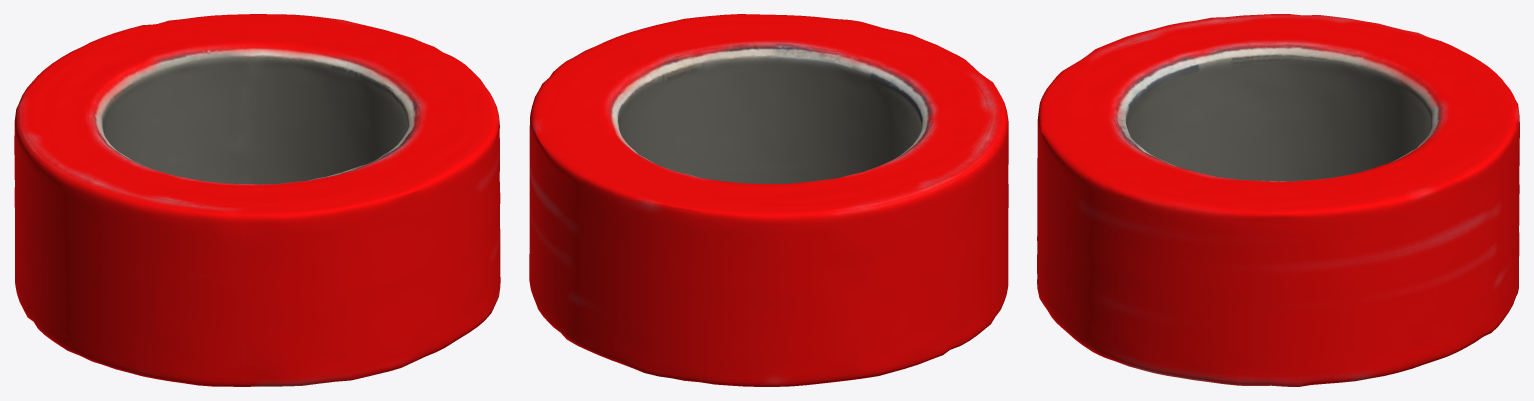
File: BANT1 1.fbx
3 views of the same model, side by side, from view 1: azimuth 30°, elevation 25°; view 2: azimuth 150°, elevation 25°; view 3: azimuth 270°, elevation 25° (orthographic).
Parts seen in each view (by area): view 1: Tape; view 2: Tape; view 3: Tape.
Boxes of the visible parts, <box> form: Tape: <box>14,14,500,386</box>; Tape: <box>529,14,1008,386</box>; Tape: <box>1037,14,1519,386</box>.
Size of the model in its own units: 12 by 4.87 by 11.96.
